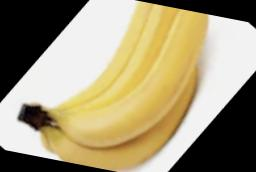Banana Ripe: (0, 0, 247, 172)
